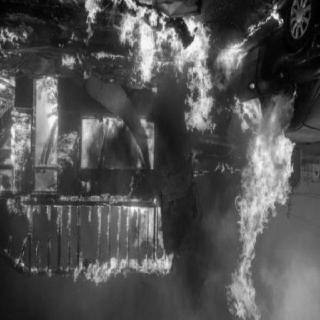Fire: (2, 6, 168, 287), (225, 98, 293, 318), (179, 21, 250, 140)
